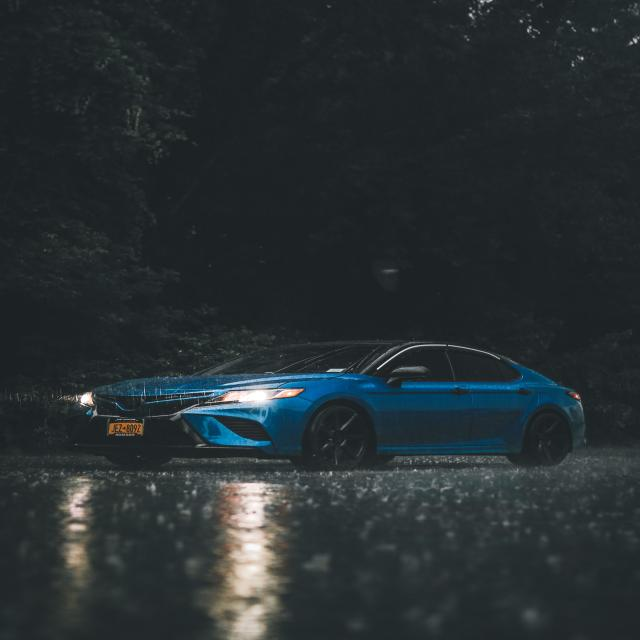car: (56, 338, 592, 473)
